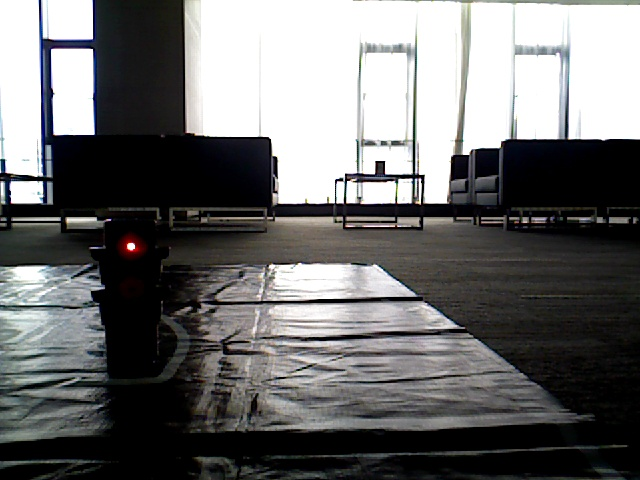red: (105, 220, 158, 334)
